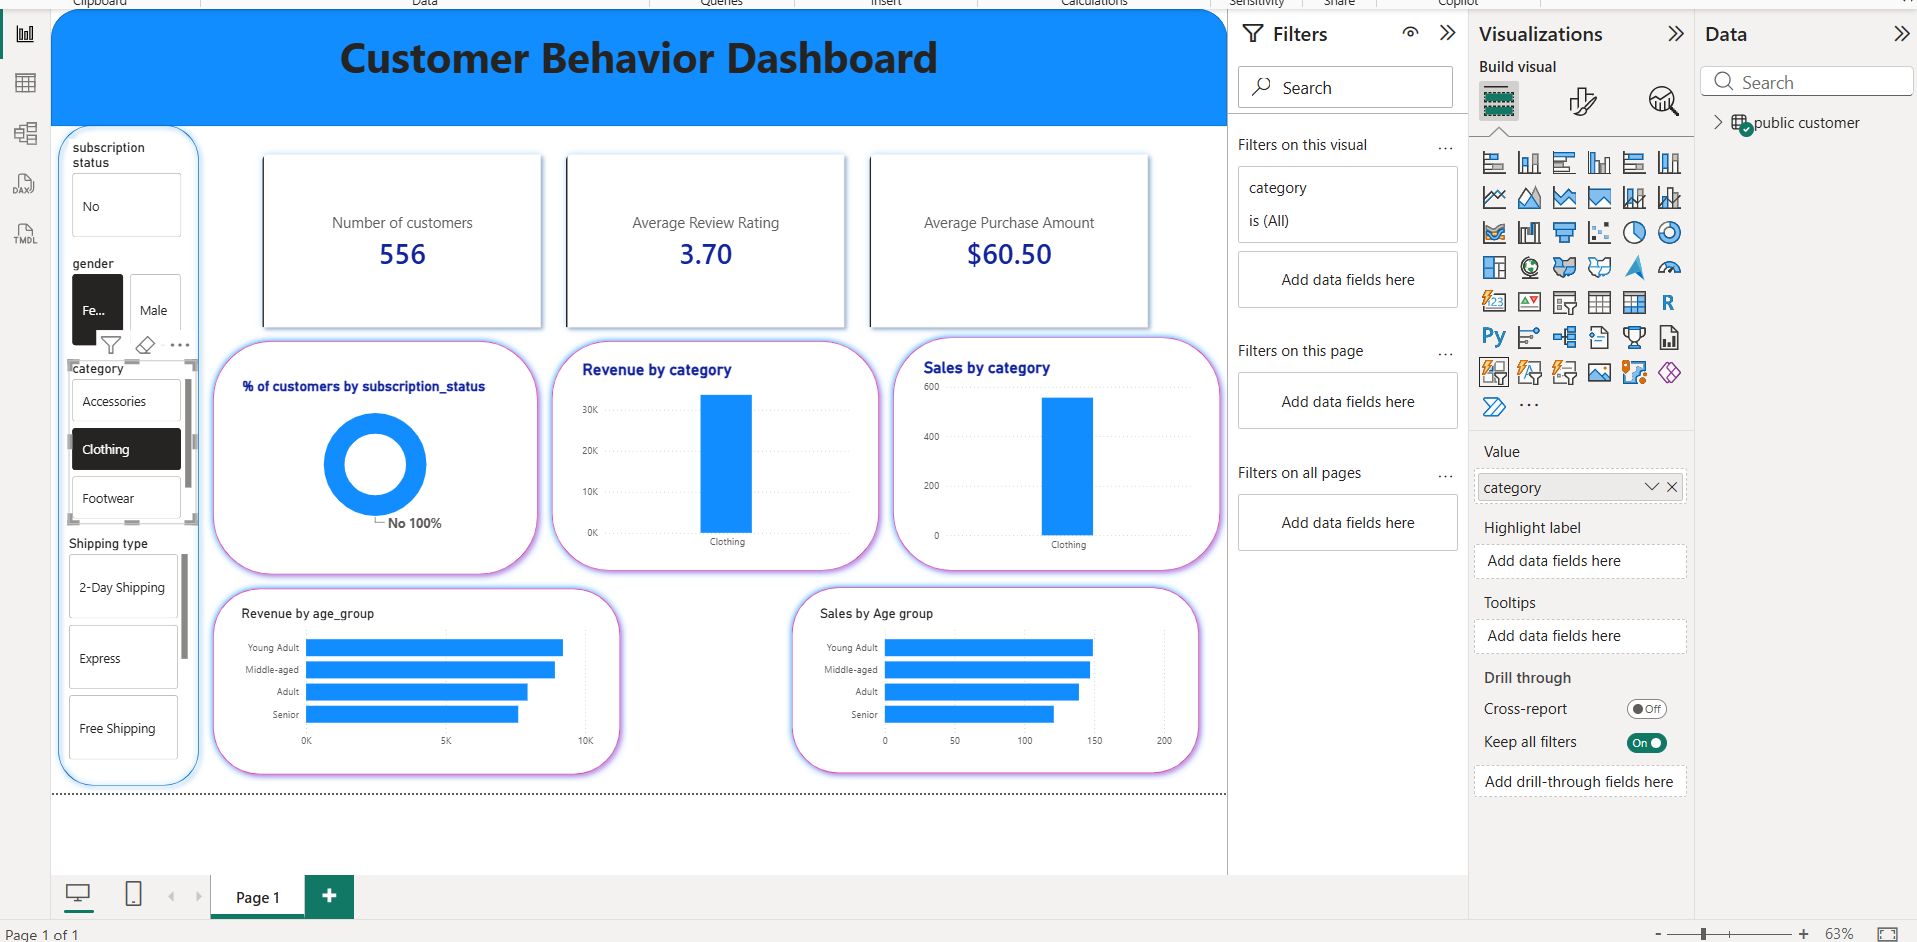

Layout of this report page (visuals, bound fields, positions):
{"tool":"powerbi","page":{"name":"Page 1","canvas":[1500,1000],"ordinal":0},"visuals":[{"type":"cardVisual","fields":{"Data":["public customer.NUmber of customers","public customer.Average Review Rating","public customer.Average Purchase Amount"]},"box":[240.8,156.3,1187.8,279],"z":0},{"type":"shape","box":[0,0,1500.3,149.6],"z":1000},{"type":"textbox","box":[0,19.3,1500.3,104.5],"z":2000},{"type":"shape","box":[197.7,414.5,432.1,315.7],"z":3000},{"type":"donutChart","title":"% of customers by subscription_status","fields":{"Category":["public customer.subscription_status"],"Y":["CountNonNull(public customer.customer_id)"]},"box":[239.2,470.3,349.2,200.9],"z":4000},{"type":"shape","box":[1065.1,409.8,435.3,315.7],"z":5000},{"type":"shape","box":[629.8,414.5,435.3,310.9],"z":6000},{"type":"clusteredColumnChart","title":"Revenue by category","fields":{"Category":["public customer.category"],"Y":["Sum(public customer.purchase_amount)"]},"box":[672.8,448,350.8,250.3],"z":7000},{"type":"clusteredColumnChart","title":"Sales by category","fields":{"Y":["CountNonNull(public customer.customer_id)"],"Category":["public customer.category"]},"box":[1108.1,444.8,350.8,256.7],"z":8000},{"type":"shape","box":[0,138.7,197.7,861],"z":9000},{"type":"advancedSlicerVisual","fields":{"Values":["public customer.subscription_status"]},"box":[22.3,165.8,149.9,130.7],"z":10000},{"type":"advancedSlicerVisual","fields":{"Values":["public customer.gender"]},"box":[22.3,314.1,149.9,121.2],"z":11000},{"type":"advancedSlicerVisual","fields":{"Values":["public customer.category"]},"box":[22.3,448,162.6,208.9],"z":12000},{"type":"advancedSlicerVisual","fields":{"Values":["public customer.shipping_type"]},"box":[17.5,671.2,162.6,293.4],"z":13000},{"type":"clusteredBarChart","fields":{"Y":["Sum(public customer.purchase_amount)"],"Category":["public customer.age_group"]},"box":[266.3,739.8,432.1,170.6],"z":14000},{"type":"shape","box":[197.7,730.2,537.3,255.1],"z":15000},{"type":"clusteredBarChart","fields":{"Category":["public customer.age_group"],"Y":["Sum(public customer.purchase_amount)"]},"box":[237.6,760.5,459.2,191.3],"z":16000},{"type":"shape","box":[935.9,728.6,537.3,255.1],"z":17000},{"type":"clusteredBarChart","title":"Sales by Age group","fields":{"Category":["public customer.age_group"],"Y":["Count(public customer.customer_id)"]},"box":[975.8,760.5,459.2,191.3],"z":18000}]}

Visuals, with their boxes on the page's 1500x1000 design canvas (x1, y1, x2, y2). These are canvas units, not pixel positions in the 1917x942 screenshot, which may show the page scaled, cropped or inside an application window:
cardVisual - public customer.NUmber of customers x public customer.Average Review Rating: detection(241, 156, 1429, 435)
shape: detection(0, 0, 1500, 150)
textbox: detection(0, 19, 1500, 124)
shape: detection(198, 414, 630, 730)
"% of customers by subscription_status" donutChart: detection(239, 470, 588, 671)
shape: detection(1065, 410, 1500, 726)
shape: detection(630, 414, 1065, 725)
"Revenue by category" clusteredColumnChart: detection(673, 448, 1024, 698)
"Sales by category" clusteredColumnChart: detection(1108, 445, 1459, 702)
shape: detection(0, 139, 198, 1000)
advancedSlicerVisual - public customer.subscription_status: detection(22, 166, 172, 296)
advancedSlicerVisual - public customer.gender: detection(22, 314, 172, 435)
advancedSlicerVisual - public customer.category: detection(22, 448, 185, 657)
advancedSlicerVisual - public customer.shipping_type: detection(18, 671, 180, 965)
clusteredBarChart - Sum(public customer.purchase_amount) x public customer.age_group: detection(266, 740, 698, 910)
shape: detection(198, 730, 735, 985)
clusteredBarChart - public customer.age_group x Sum(public customer.purchase_amount): detection(238, 760, 697, 952)
shape: detection(936, 729, 1473, 984)
"Sales by Age group" clusteredBarChart: detection(976, 760, 1435, 952)
